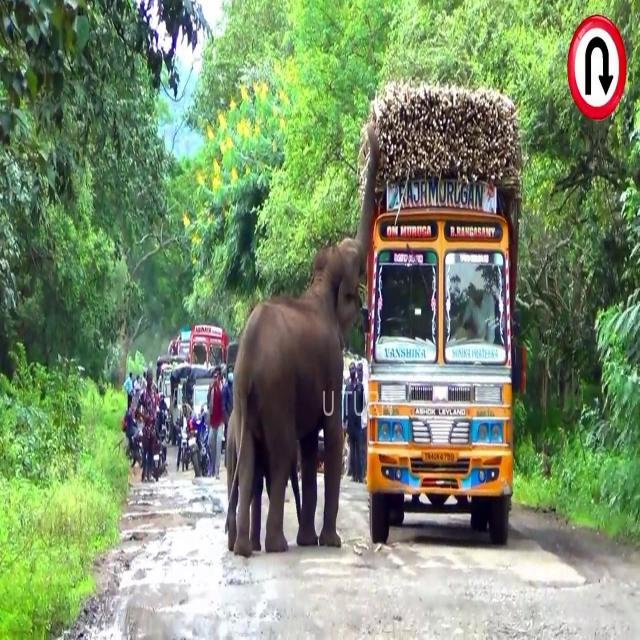Elephant: (224, 122, 378, 558)
